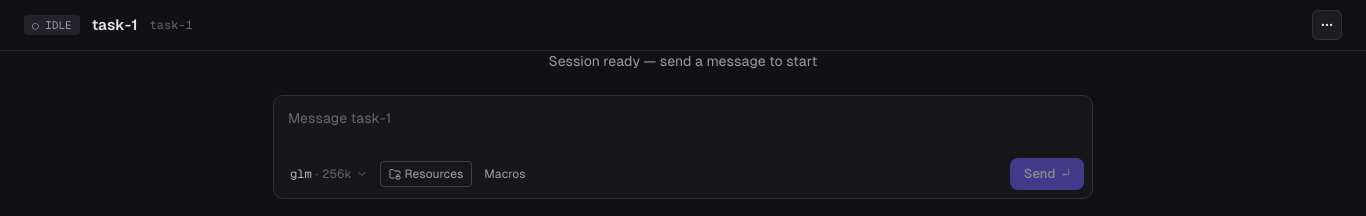
NativeAgentPanel › renders a model dropdown with models from the models endpoint
The width and height of the screenshot is (1366, 216).
Expected: the text "glm" is shown, x1=290 y1=166 x2=312 y2=182
Click the button titled "Change model". click: (329, 174)
box: x1=282 y1=160 x2=376 y2=188
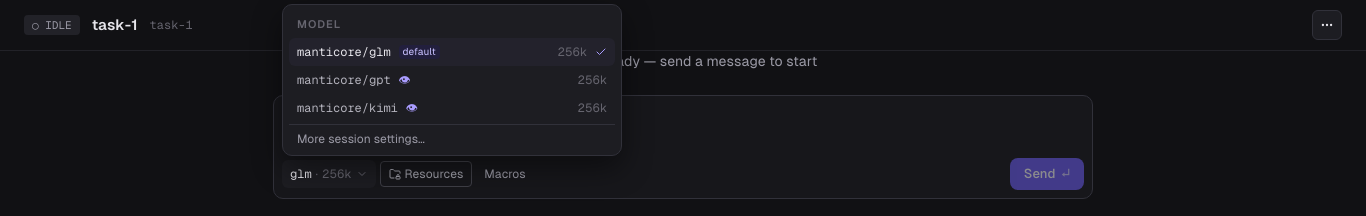
Result: the text "manticore/gpt" is shown at x1=297 y1=72 x2=391 y2=88
Result: the text "manticore/kimi" is shown at x1=297 y1=100 x2=398 y2=116
Result: the number of elements titled "vision" is 2 at x1=399 y1=72 x2=411 y2=88; x1=406 y1=100 x2=418 y2=116
